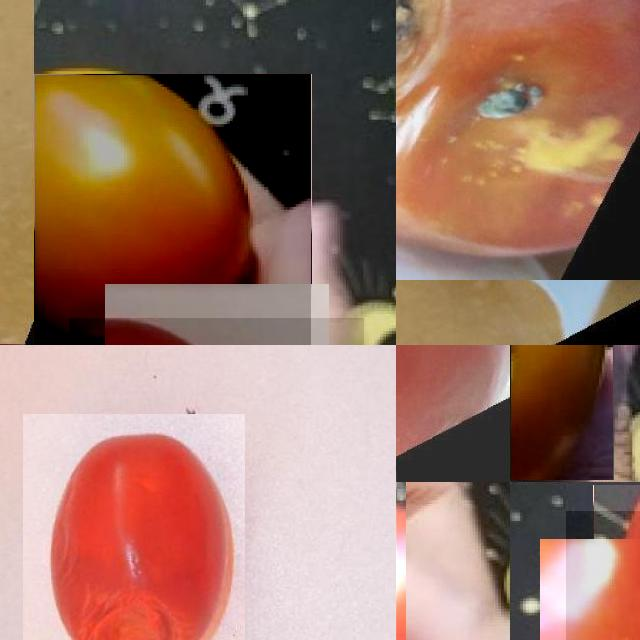Fresh Tomato: (34, 74, 311, 345)
Rotten Tomato: (396, 0, 640, 280), (23, 414, 244, 640), (396, 345, 510, 482), (510, 345, 613, 480)
